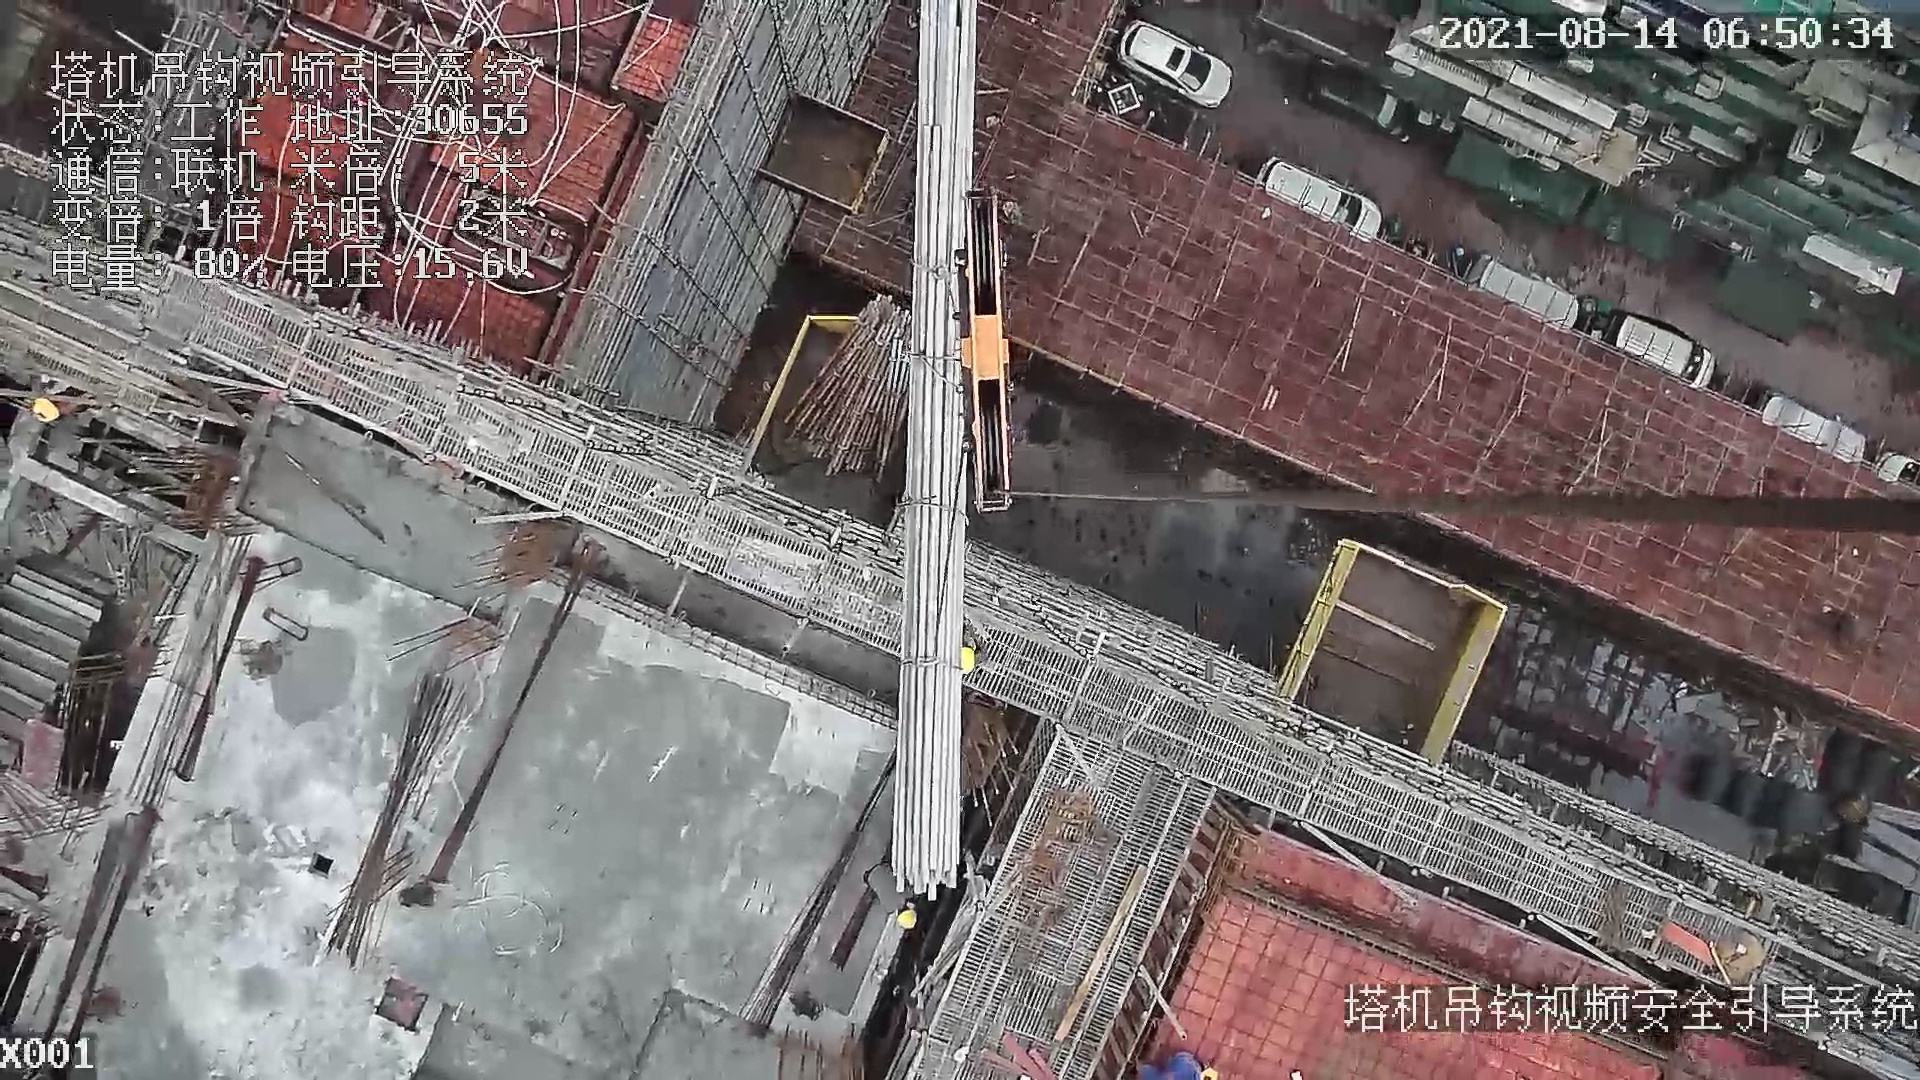helmet: (33, 392, 64, 429), (898, 900, 926, 930)
hook: (950, 182, 1019, 519)
person: (865, 853, 924, 935), (1128, 1045, 1232, 1080)
